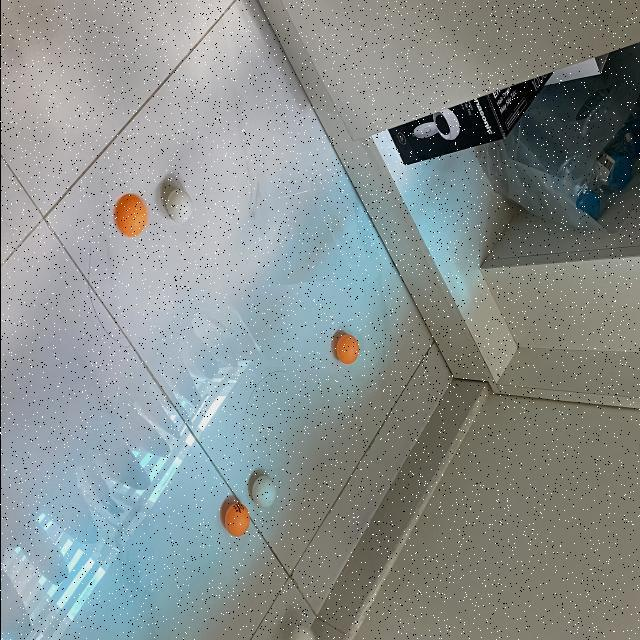ping-pong-ball: (111, 193, 148, 239), (166, 189, 194, 223), (251, 476, 279, 510), (224, 503, 249, 537), (334, 334, 358, 366), (290, 627, 314, 640)
